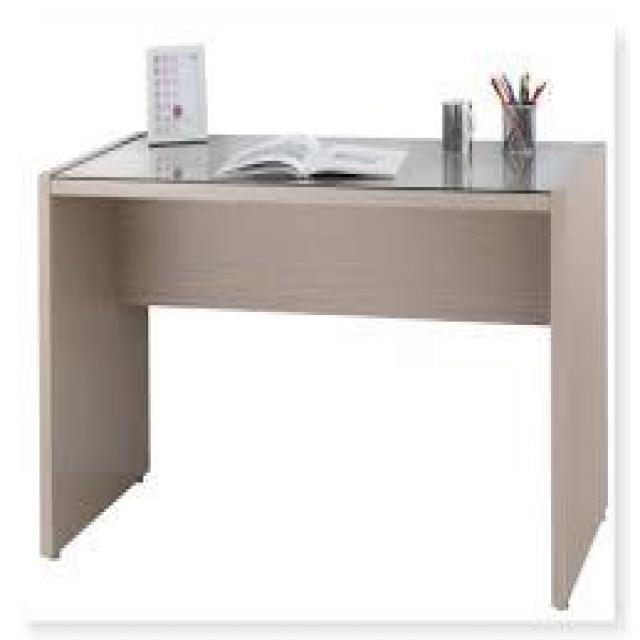desk: (24, 26, 616, 614)
